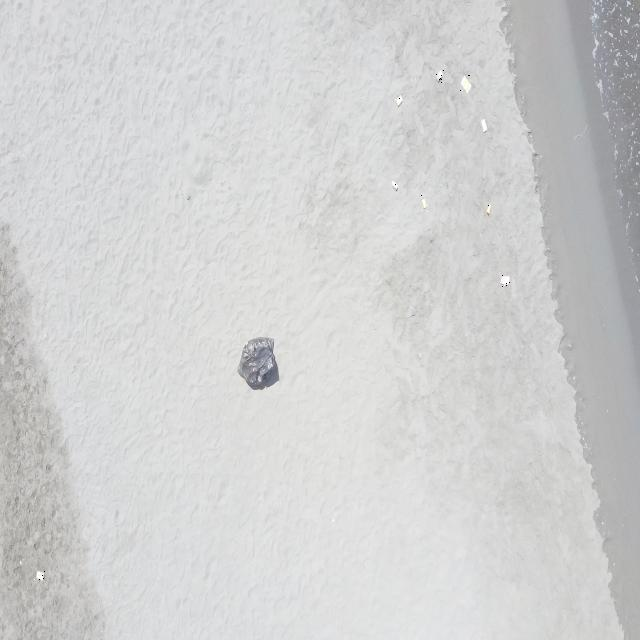Garbage: (238, 337, 278, 387), (460, 75, 471, 91), (435, 68, 443, 81), (500, 275, 508, 286), (420, 193, 426, 207), (480, 119, 487, 131), (35, 571, 44, 580), (395, 95, 402, 105), (484, 203, 489, 215), (392, 180, 397, 190)
